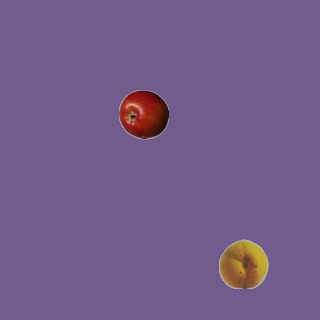Apple Braeburn: (118, 89, 168, 139)
Peach 2: (218, 238, 268, 288)
